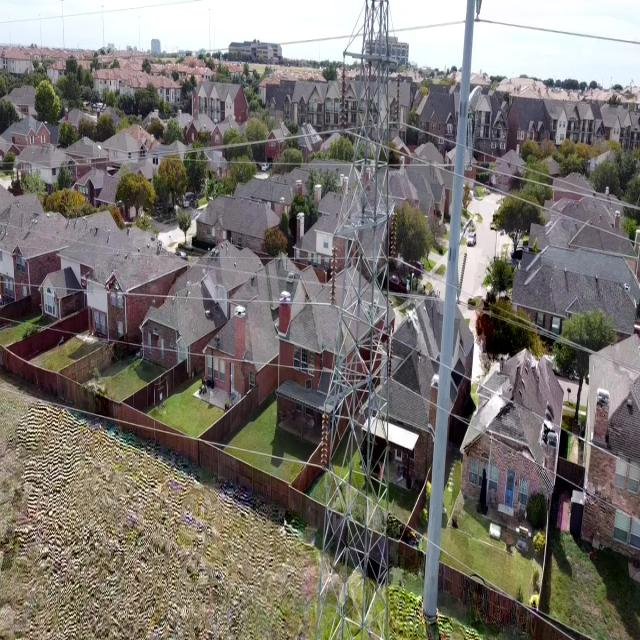杆塔: (311, 1, 396, 639)
正常电缆: (407, 329, 640, 485), (409, 376, 640, 533), (0, 379, 312, 486), (408, 253, 640, 389), (0, 303, 318, 385), (0, 260, 321, 325), (401, 512, 564, 640)
正常绝缘子: (337, 56, 352, 136), (388, 202, 402, 276), (327, 241, 340, 311), (319, 403, 331, 475), (392, 64, 403, 128), (385, 330, 397, 385)
